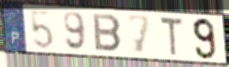5: (29, 9, 56, 50)
7: (126, 13, 153, 56)
9: (191, 17, 219, 61), (62, 11, 88, 51)
B: (91, 12, 124, 53)
T: (159, 15, 185, 58)
